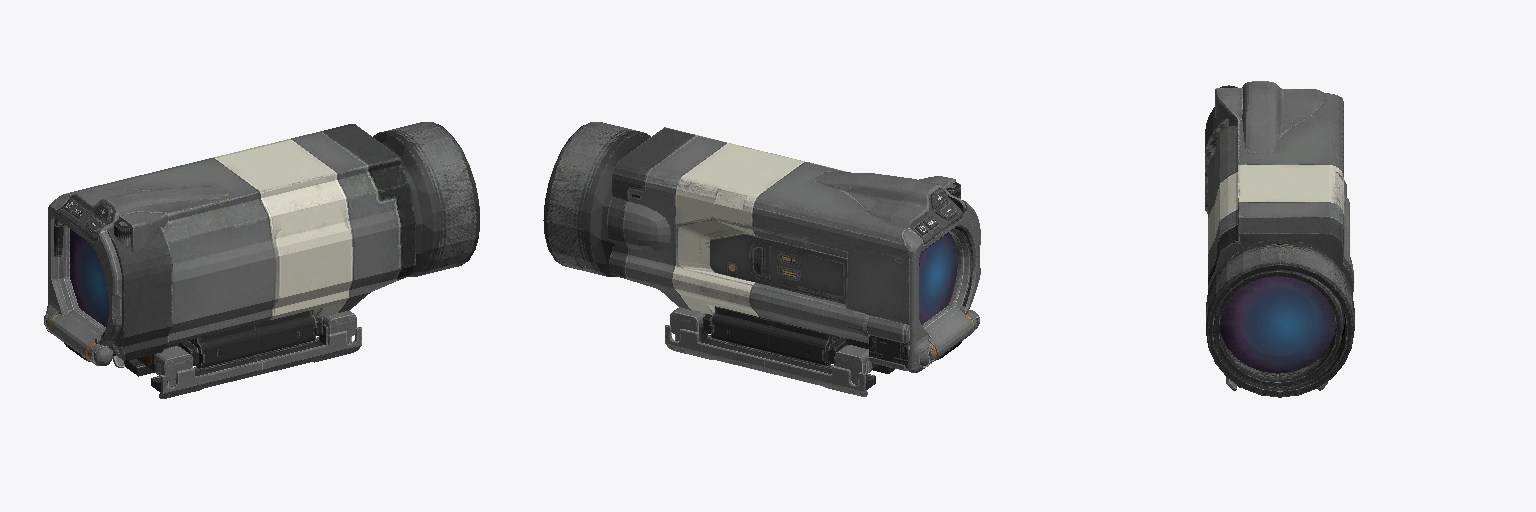
3 renders of one model, left to right at view 1: azimuth 30°, elevation 25°; view 2: azimuth 150°, elevation 25°; view 3: azimuth 270°, elevation 25°, orthographic.
Parts seen in each view (by area): view 1: unsc_scope_dmr; view 2: unsc_scope_dmr; view 3: unsc_scope_dmr.
Part boxes in pixels (x1,y1,x2,y2): unsc_scope_dmr: (44, 122, 479, 398); unsc_scope_dmr: (543, 122, 980, 396); unsc_scope_dmr: (1205, 81, 1354, 397).
Bounding box in the file's own units: 0.1163 × 0.0583 × 0.0399.
2 materials, 2 textured.